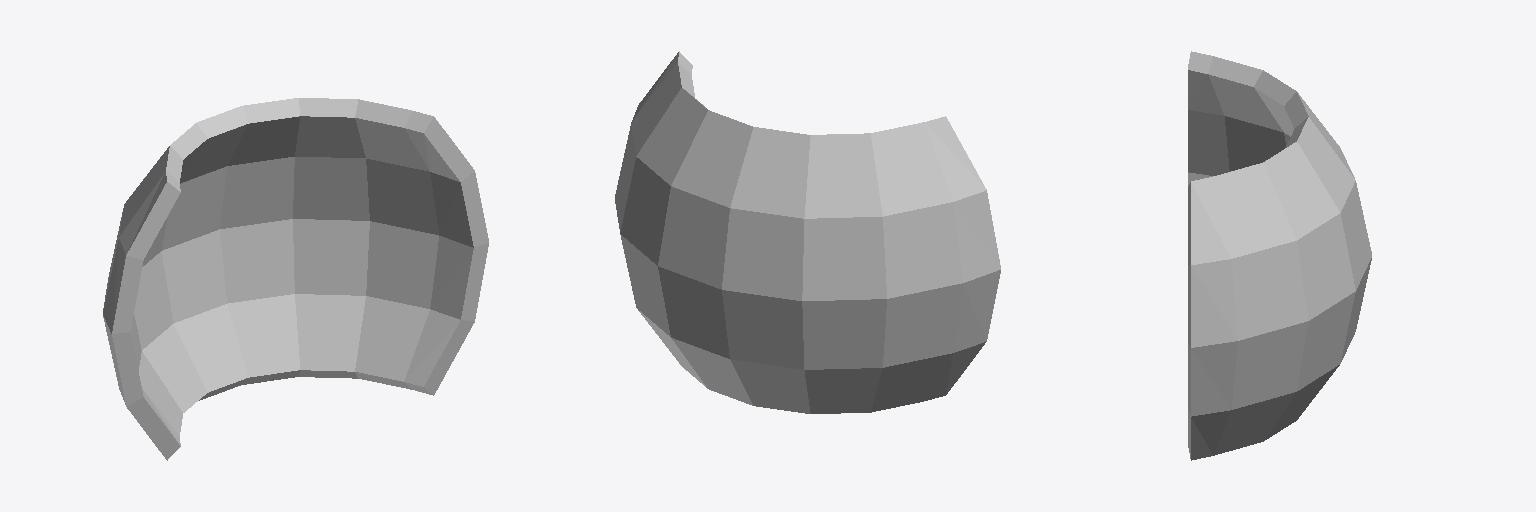
The model's file is boss_shield_front_collision.obj.
3 views of the same model, side by side, from view 1: azimuth 30°, elevation 25°; view 2: azimuth 150°, elevation 25°; view 3: azimuth 270°, elevation 25° (orthographic).
Visible parts, largest first — view 1: Sphere.001_Sphere.003; view 2: Sphere.001_Sphere.003; view 3: Sphere.001_Sphere.003.
Part boxes in pixels (left/top/right/bottom): Sphere.001_Sphere.003: left=103, top=98, right=488, bottom=460; Sphere.001_Sphere.003: left=615, top=51, right=1000, bottom=413; Sphere.001_Sphere.003: left=1188, top=51, right=1371, bottom=460.
Bounding box in the file's own units: 4.18 × 2.96 × 1.77.